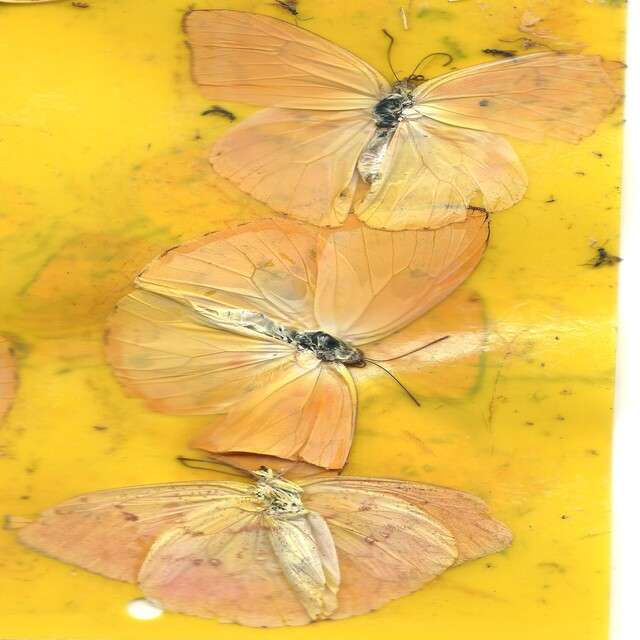Lepidoptera: (105, 206, 493, 480), (180, 10, 625, 233), (15, 458, 514, 630)
